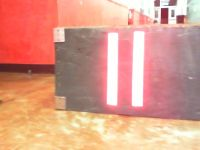switch: (131, 31, 145, 107), (106, 32, 119, 106)
